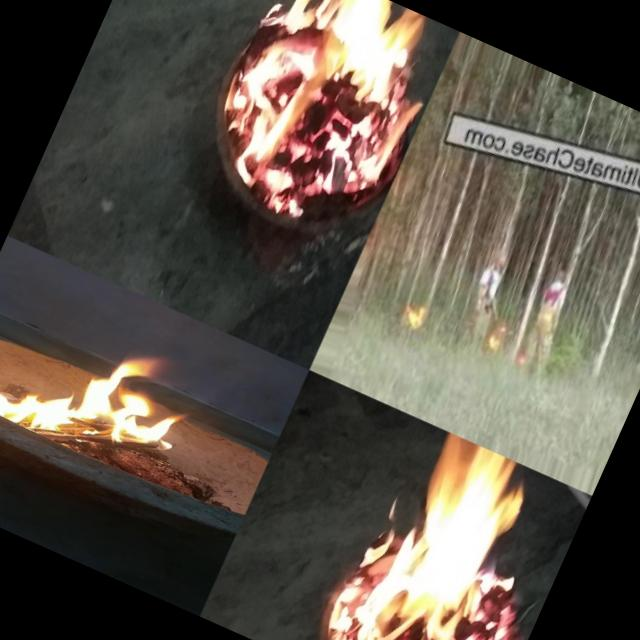fire: (185, 0, 460, 250), (301, 415, 584, 640), (0, 311, 202, 489), (399, 294, 436, 336), (485, 320, 512, 354)
